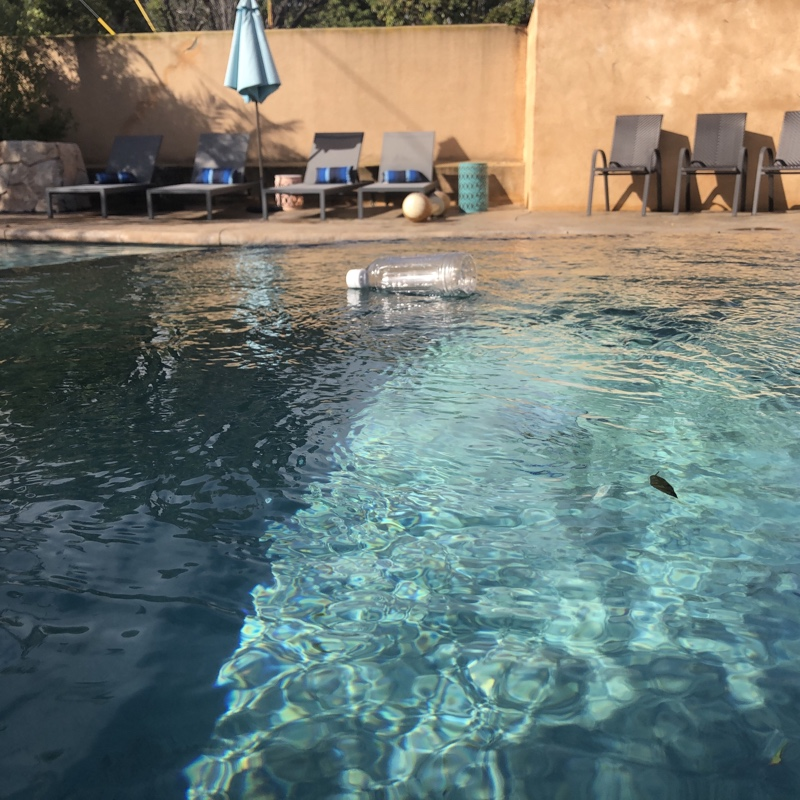Plastic Bottle: (342, 253, 483, 302)
